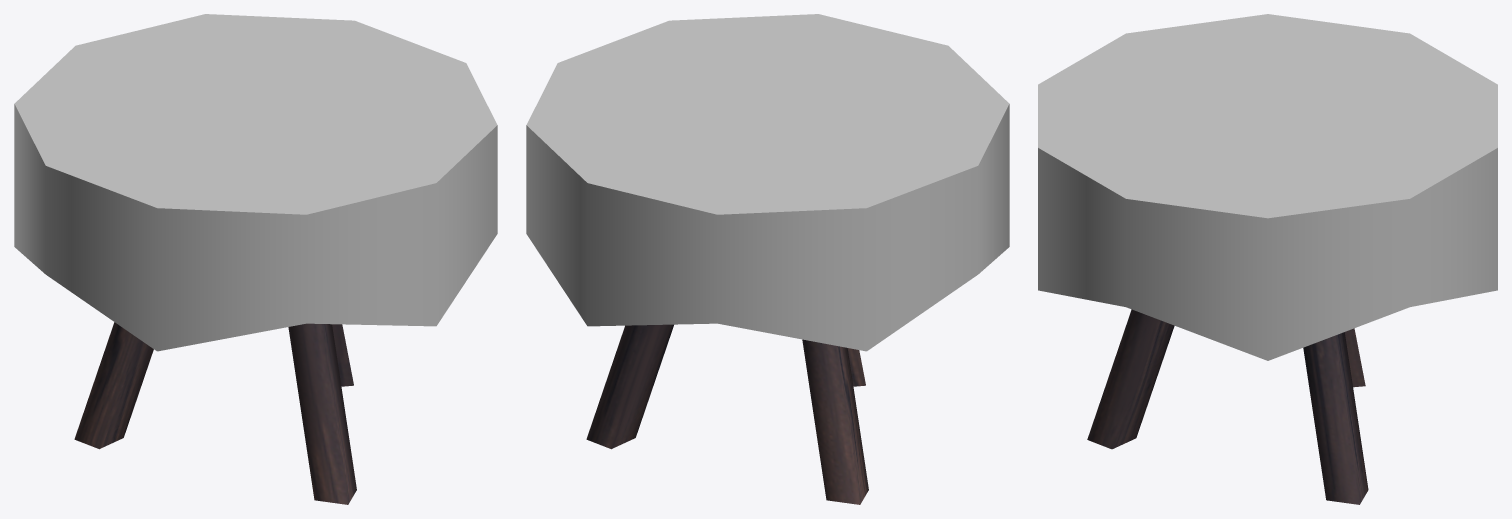
Rendered from Round_table_B.fbx.
The picture shows the model from 3 angles, left to right: view 1: azimuth 30°, elevation 25°; view 2: azimuth 150°, elevation 25°; view 3: azimuth 270°, elevation 25°; orthographic projection.
Visible parts, largest first — view 1: Round_table_B; view 2: Round_table_B; view 3: Round_table_B.
Part boxes in pixels (bbox=[...]): Round_table_B: bbox=[14, 14, 497, 504]; Round_table_B: bbox=[526, 14, 1009, 504]; Round_table_B: bbox=[1038, 14, 1497, 504].
Size of the model in its own units: 0.2996 by 0.2208 by 0.2849.
